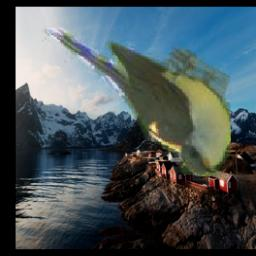Cuckoo: (43, 28, 232, 177)
